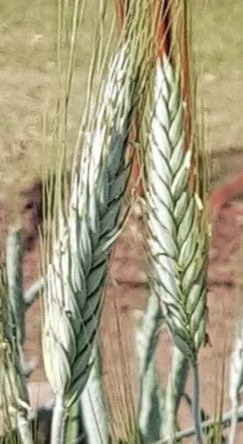Healthy Wheat: (146, 63, 218, 353)
